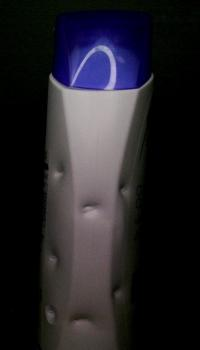dent_unacceptable: (40, 297, 98, 338), (69, 196, 112, 223), (49, 160, 73, 192), (44, 248, 69, 278), (102, 282, 130, 304), (112, 178, 134, 204)
